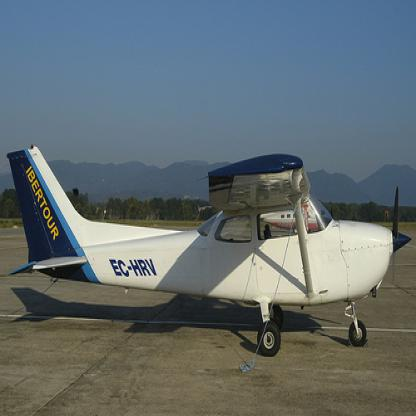aeroplane: (7, 145, 410, 358), (260, 204, 334, 233)
